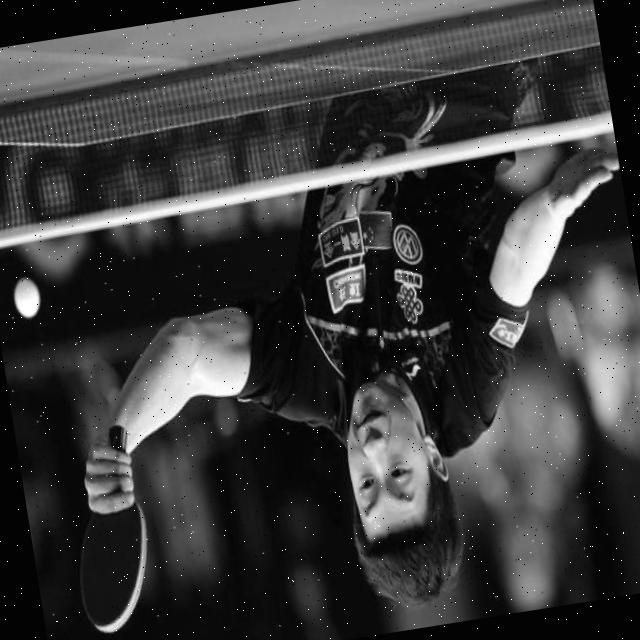ping-pong-ball: (4, 268, 45, 328)
